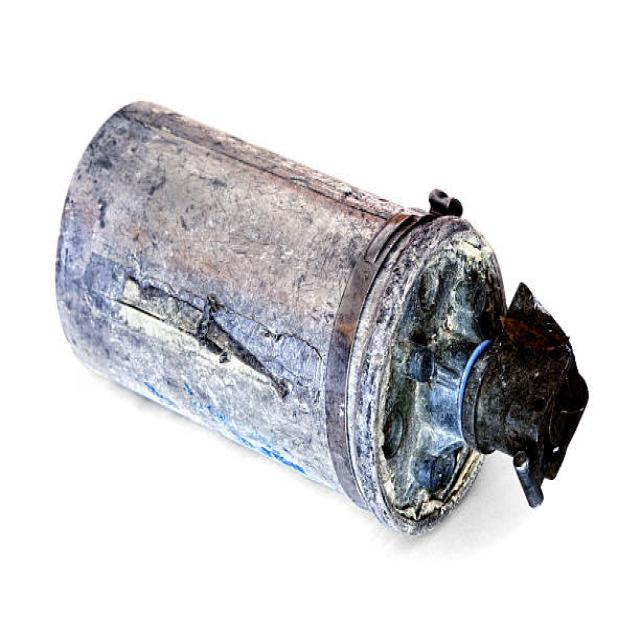grenade: (47, 91, 600, 542)
